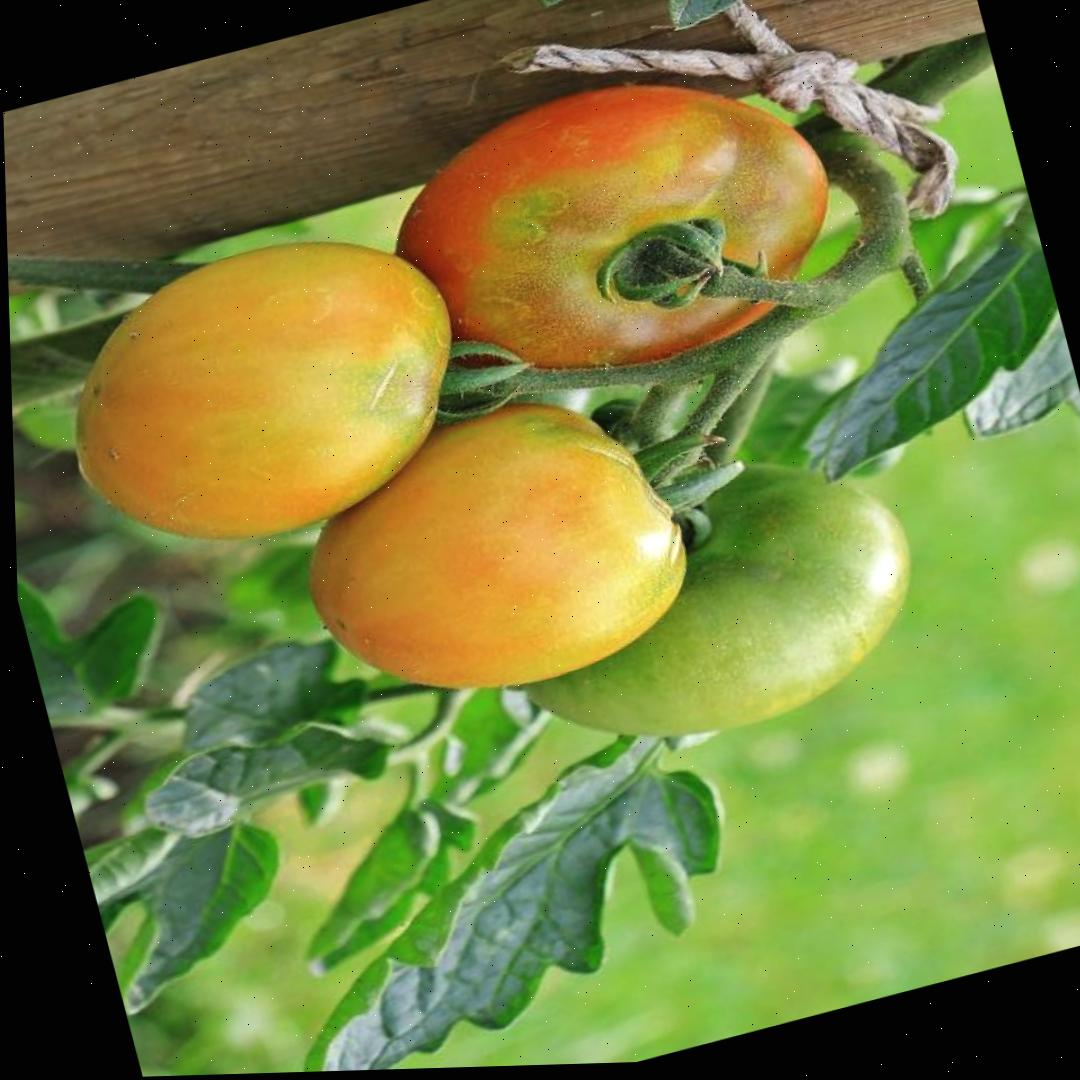matang: (355, 33, 874, 436)
mentah: (457, 409, 947, 787)
setengah_matang: (35, 198, 502, 583), (268, 358, 720, 737)
